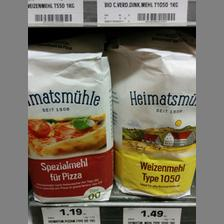Mehl: (26, 48, 114, 200), (111, 48, 195, 198)
